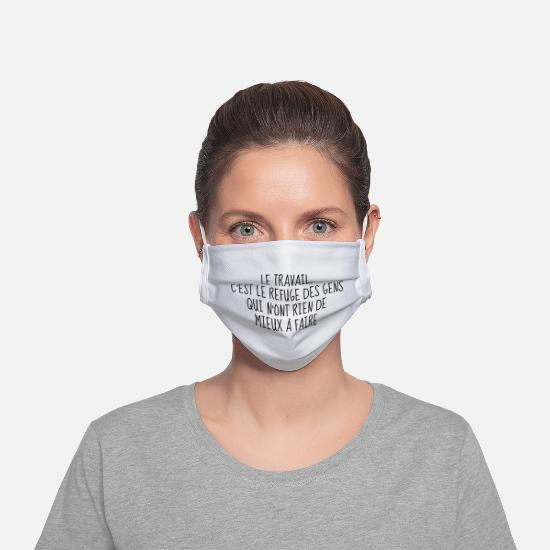with_mask: (206, 177, 368, 380)
